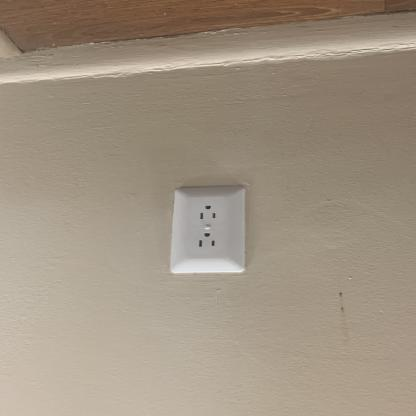OUTLET: (167, 183, 250, 277)
